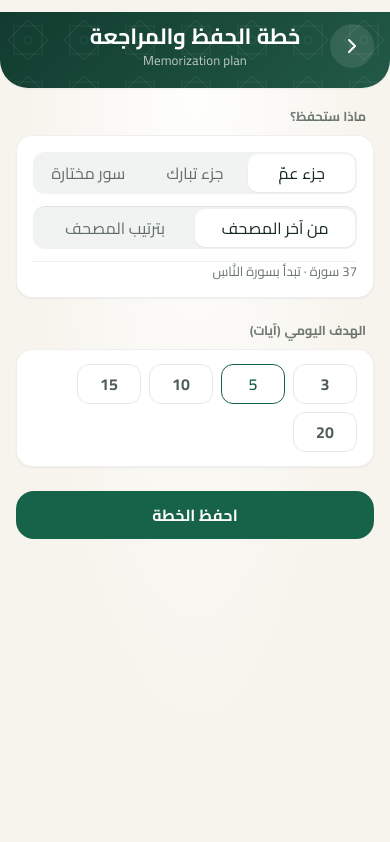
Test: memorization plan screen › custom surahs: nothing chosen cannot be saved
Click the radio button labelled "سور مختارة" at (88,173), box x1=35 y1=154 x2=142 y2=192
(page scrolled)
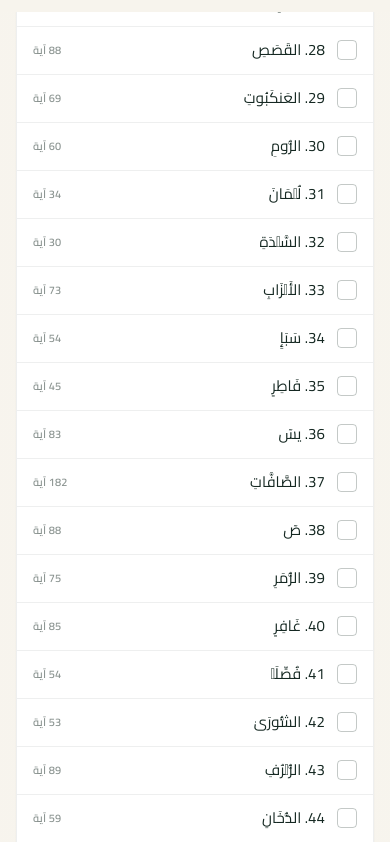
Click the checkbox labelled "36. يسٓ 83 آية" at (347,434), box x1=17 y1=410 x2=373 y2=458
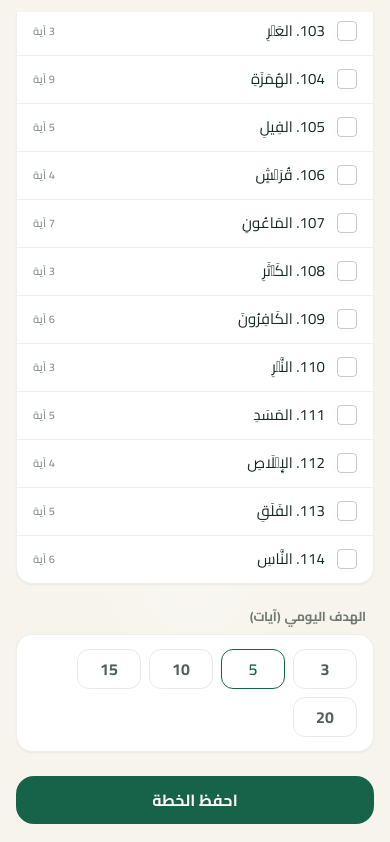
Check: the button "احفظ الخطة" is enabled, box x1=16 y1=776 x2=374 y2=824
